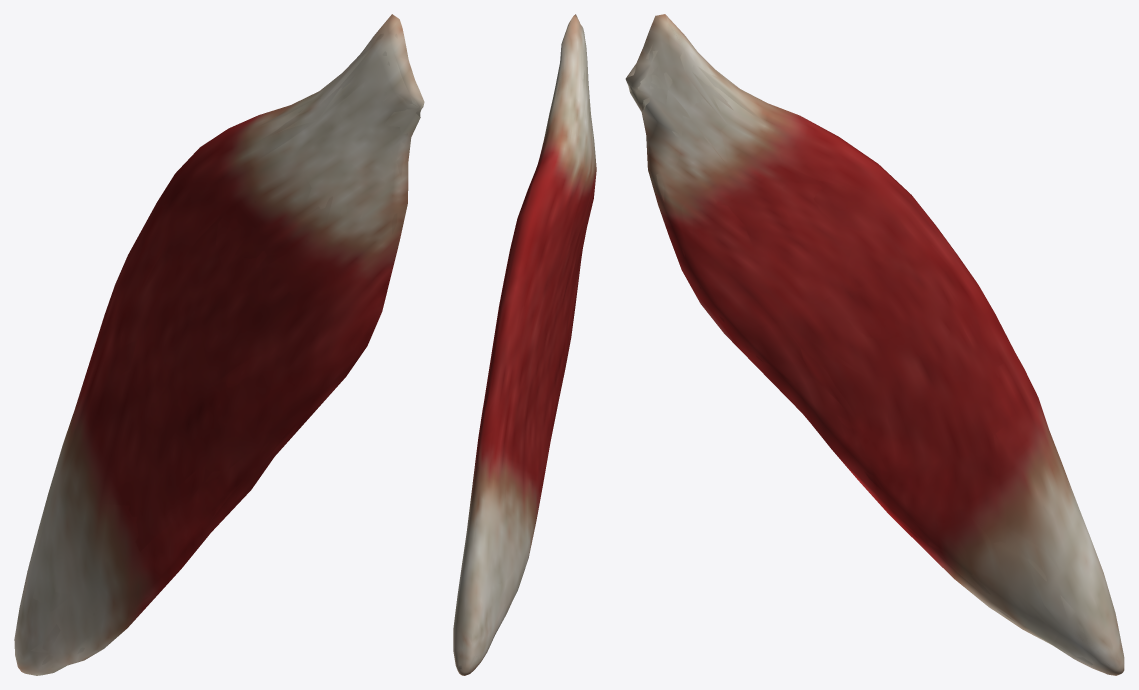
Rendered from R Triceps brachii caput laterale.fbx.
The picture shows the model from 3 angles, left to right: view 1: azimuth 30°, elevation 25°; view 2: azimuth 150°, elevation 25°; view 3: azimuth 270°, elevation 25°; orthographic projection. The views are drawn at different scales.
Visible parts, largest first — view 1: R Triceps brachii caput laterale, R Triceps brachii caput laterale low, R Triceps brachii caput laterale high; view 2: R Triceps brachii caput laterale, R Triceps brachii caput laterale low, R Triceps brachii caput laterale high; view 3: R Triceps brachii caput laterale, R Triceps brachii caput laterale low, R Triceps brachii caput laterale high.
Boxes of the visible parts, x1,y1,x2,y2 form: R Triceps brachii caput laterale: (14,14,424,675); R Triceps brachii caput laterale low: (14,19,424,675); R Triceps brachii caput laterale high: (17,33,420,673); R Triceps brachii caput laterale: (453,14,596,675); R Triceps brachii caput laterale low: (453,19,596,673); R Triceps brachii caput laterale high: (455,28,592,673); R Triceps brachii caput laterale: (626,14,1124,675); R Triceps brachii caput laterale low: (626,17,1124,675); R Triceps brachii caput laterale high: (629,44,1124,674).
Bounding box in the file's own units: 0.9932 × 6.36 × 4.11.
